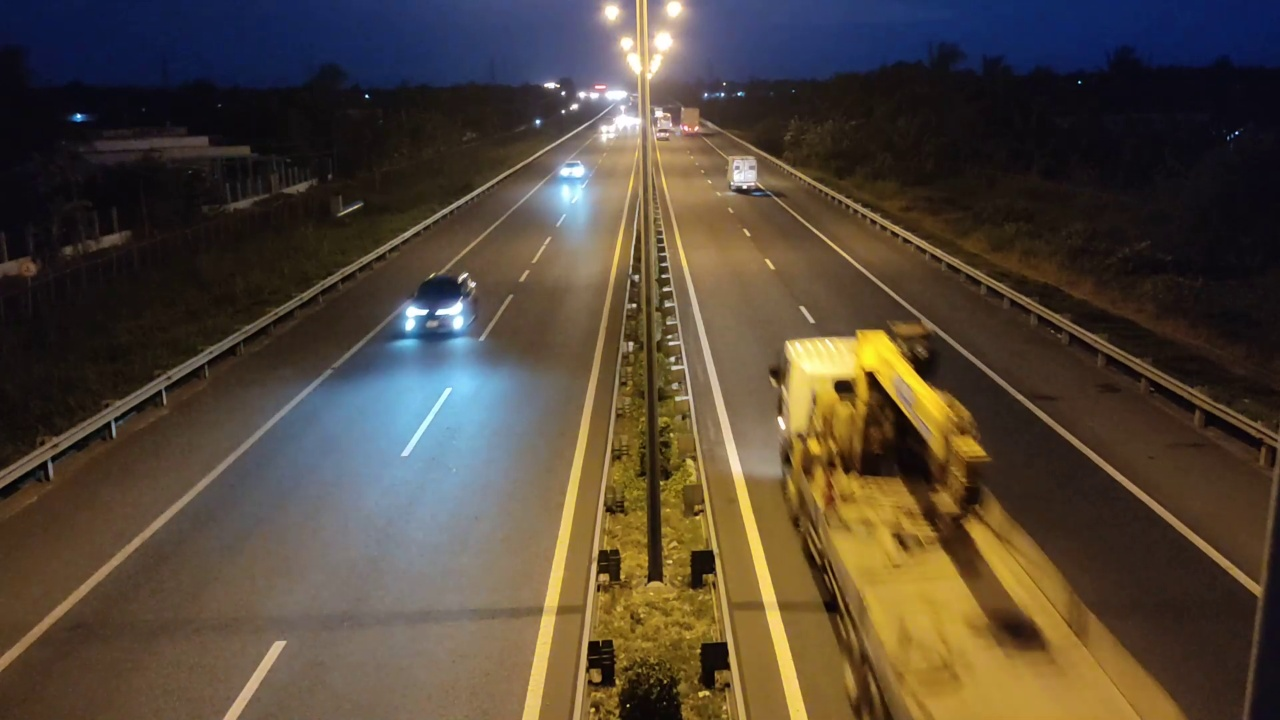car: (399, 271, 479, 338)
truck: (772, 319, 1119, 714)
